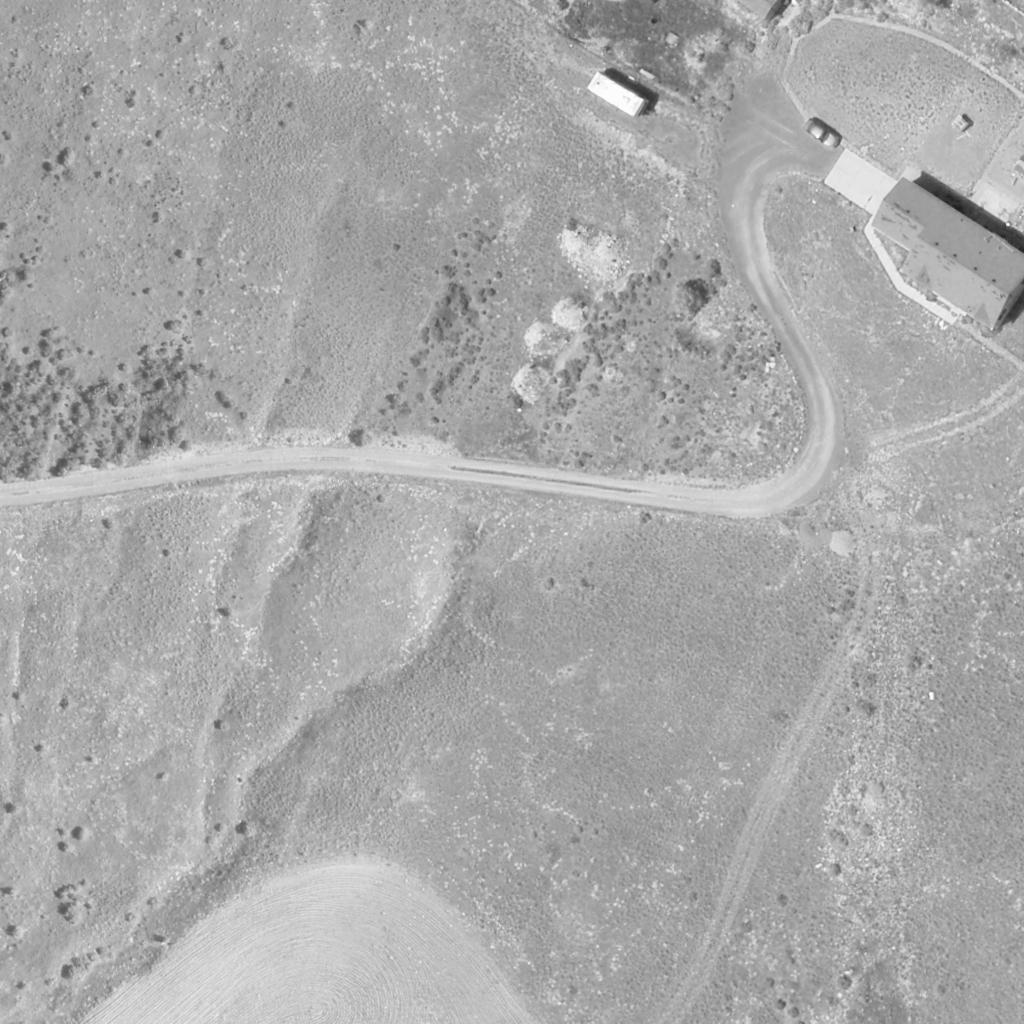vehicle: (585, 68, 651, 120), (802, 117, 844, 147)
